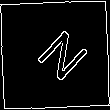N_SW: (23, 23, 87, 87)
